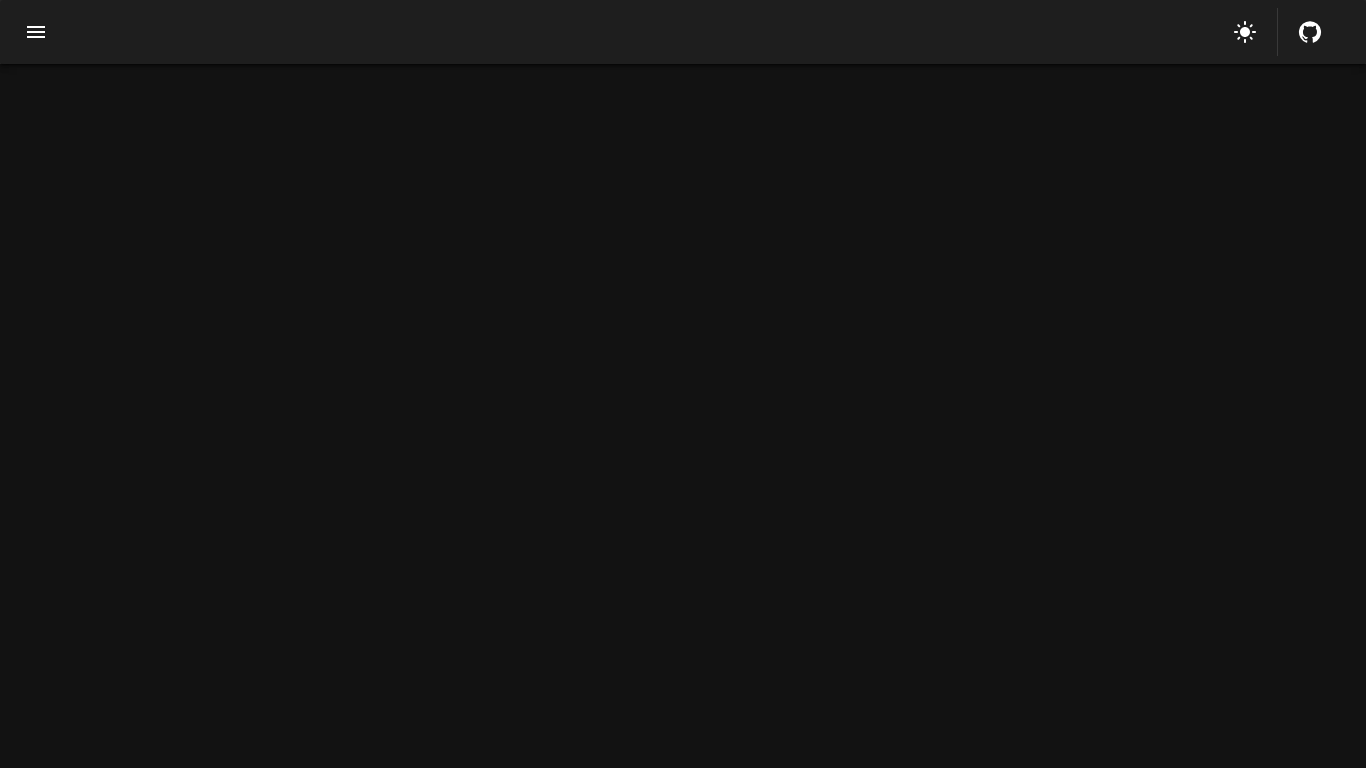
Header › opens drawer
Click the button named "menu-btn": (36, 32) [12,8,60,56]
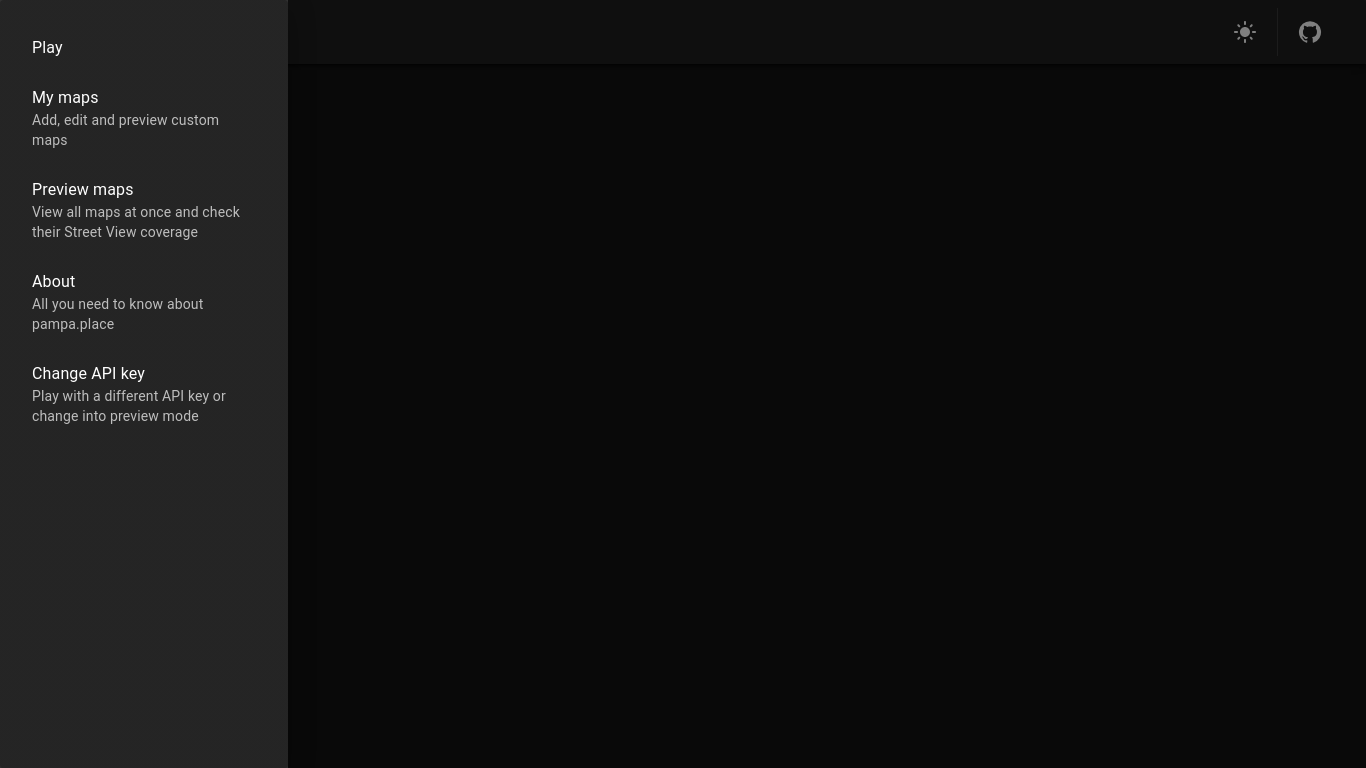
Now the element that starts with "Play" is shown
